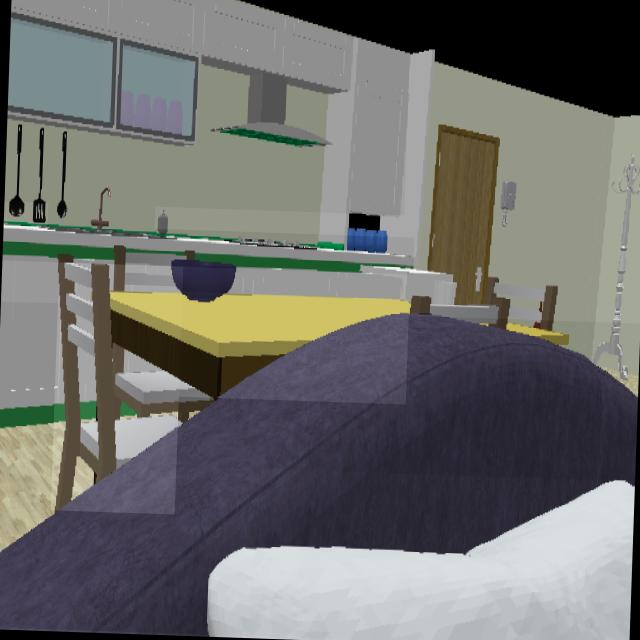cabinet: (7, 0, 409, 215)
chair: (57, 254, 177, 509)
countertop: (3, 223, 413, 272)
pillow: (208, 481, 633, 640)
sink: (47, 186, 154, 235)
sofa: (0, 316, 637, 634)
table: (109, 291, 409, 397)
